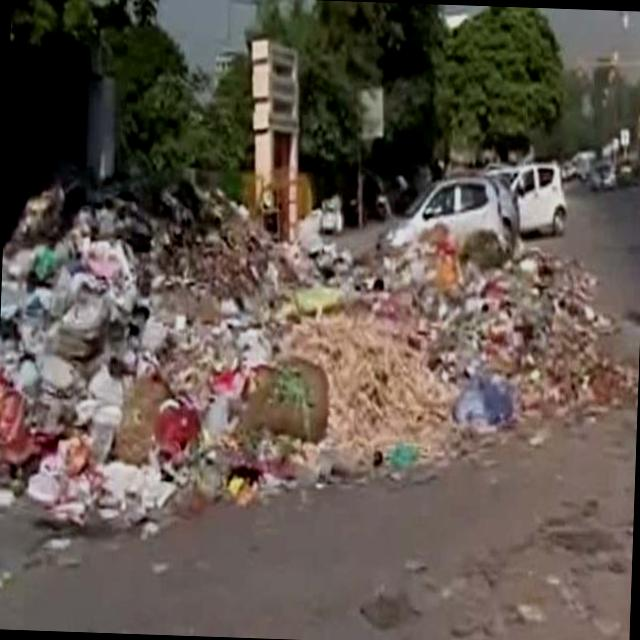garbage: (10, 204, 583, 530)
